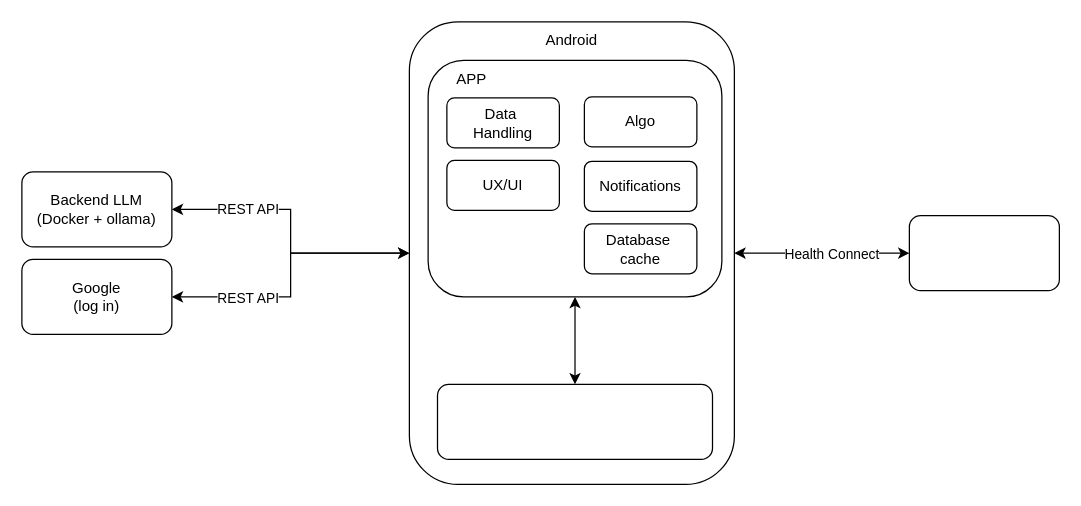
This 1081x506 diagram has some shape labels left out. The shapes that lost their labels are listed below. From the top down, each one's centre as x and y in pixels, then its label:
the point at 983,252: Wearable
the point at 574,421: DataBase
